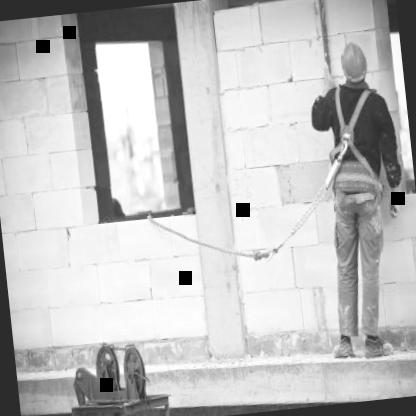helmet: (336, 35, 372, 93)
